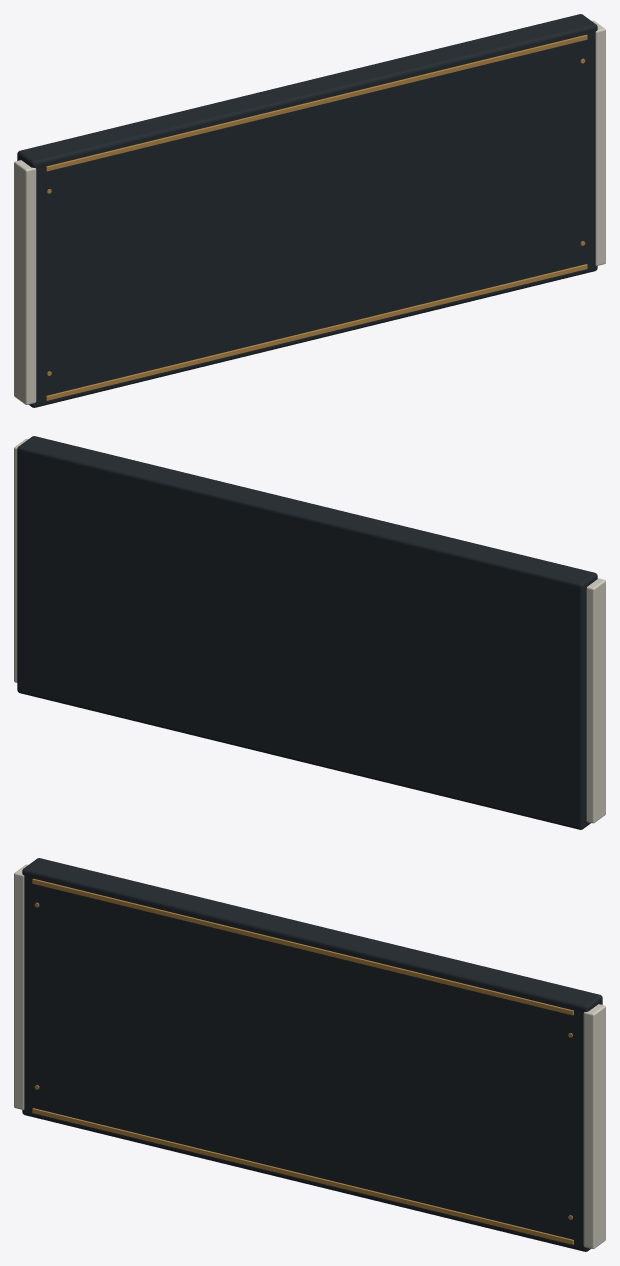
File: SM_Aurelion_KIT_Z03DestinationPlaque.fbx
3 renders of one model, top to bottom at view 1: azimuth 30°, elevation 25°; view 2: azimuth 150°, elevation 25°; view 3: azimuth 330°, elevation 25°, orthographic.
Parts seen in each view (by area): view 1: SM_Aurelion_KIT_Z03DestinationPlaque; view 2: SM_Aurelion_KIT_Z03DestinationPlaque; view 3: SM_Aurelion_KIT_Z03DestinationPlaque.
Part boxes in pixels (x1=…): SM_Aurelion_KIT_Z03DestinationPlaque: x1=14, y1=14, x2=605, y2=407; SM_Aurelion_KIT_Z03DestinationPlaque: x1=14, y1=436, x2=605, y2=829; SM_Aurelion_KIT_Z03DestinationPlaque: x1=14, y1=858, x2=605, y2=1251.
Bounding box in the file's own units: 160 × 8.7 × 65.
